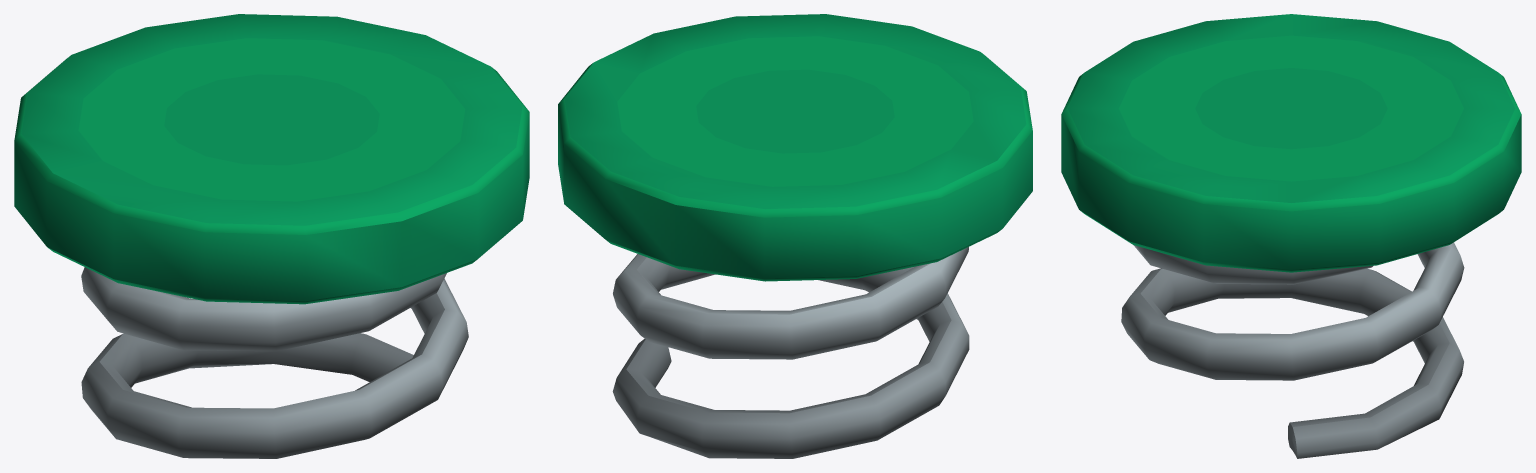
File: kaykit_spring_pad_green.glb
3 renders of one model, left to right at view 1: azimuth 30°, elevation 25°; view 2: azimuth 150°, elevation 25°; view 3: azimuth 270°, elevation 25°, orthographic. The views are drawn at different scales.
Visible parts, largest first — view 1: spring_pad_green_visual; view 2: spring_pad_green_visual; view 3: spring_pad_green_visual.
Boxes of the visible parts, left/top/right/bottom form: spring_pad_green_visual: left=14, top=14, right=529, bottom=458; spring_pad_green_visual: left=558, top=14, right=1032, bottom=458; spring_pad_green_visual: left=1061, top=14, right=1521, bottom=458.
Size of what is drawn, in the model's own units: 1.5 by 1 by 1.5.
1 material, 1 textured.
